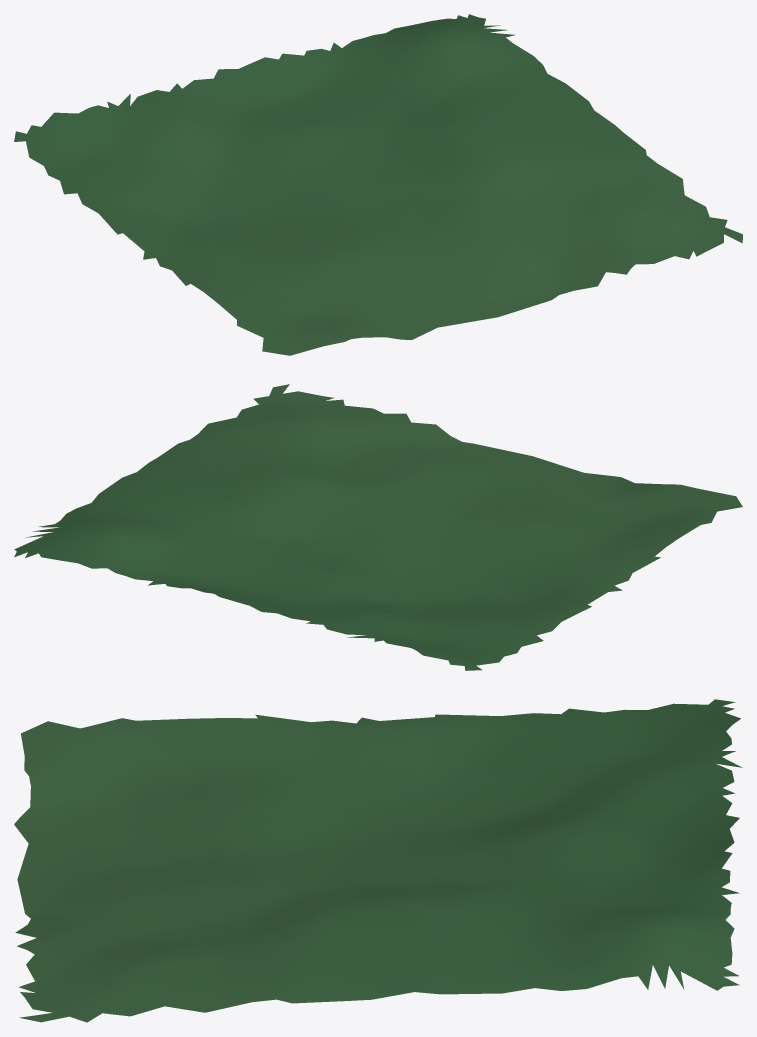
File: payo_land_x3_y8_lod1.glb
The picture shows the model from 3 angles, top to bottom: view 1: azimuth 30°, elevation 25°; view 2: azimuth 150°, elevation 25°; view 3: azimuth 270°, elevation 25°; orthographic projection. The views are drawn at different scales.
Visible parts, largest first — view 1: payo_land_x3_y8; view 2: payo_land_x3_y8; view 3: payo_land_x3_y8.
Boxes of the visible parts, box(x1,y1,x2,y2) form: payo_land_x3_y8: box(14, 14, 742, 355); payo_land_x3_y8: box(14, 384, 742, 670); payo_land_x3_y8: box(14, 699, 742, 1022).
Size of the model in its own units: 265 by 30.01 by 265.
